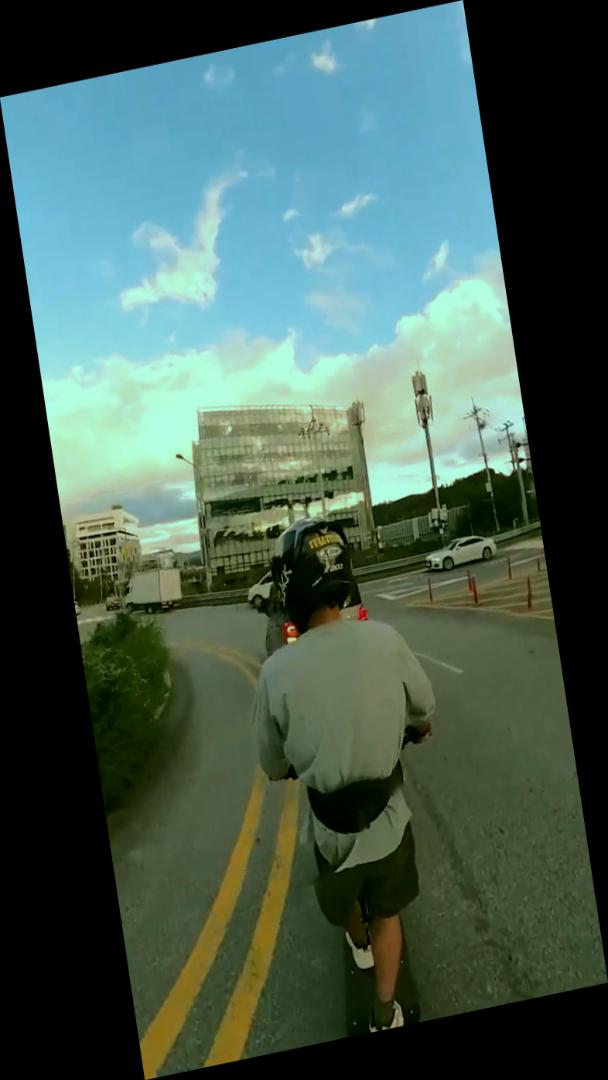helmet: (219, 495, 488, 1049)
